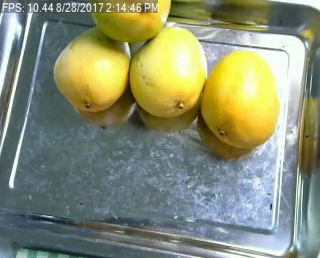Mango: (201, 51, 281, 147), (129, 24, 206, 117), (53, 21, 131, 111), (89, 0, 171, 41)
